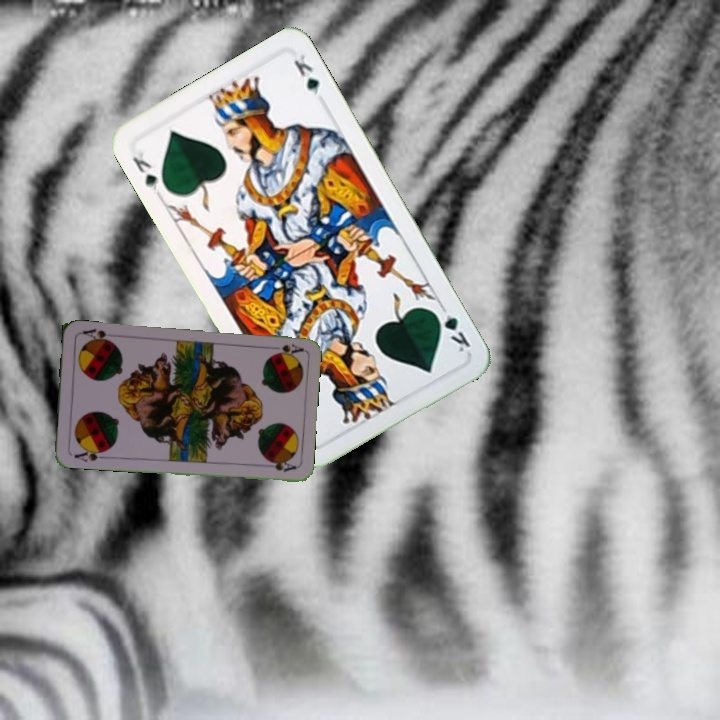GK: (429, 300, 473, 355), (128, 143, 162, 193)
SA: (70, 444, 109, 465), (270, 340, 305, 358)
